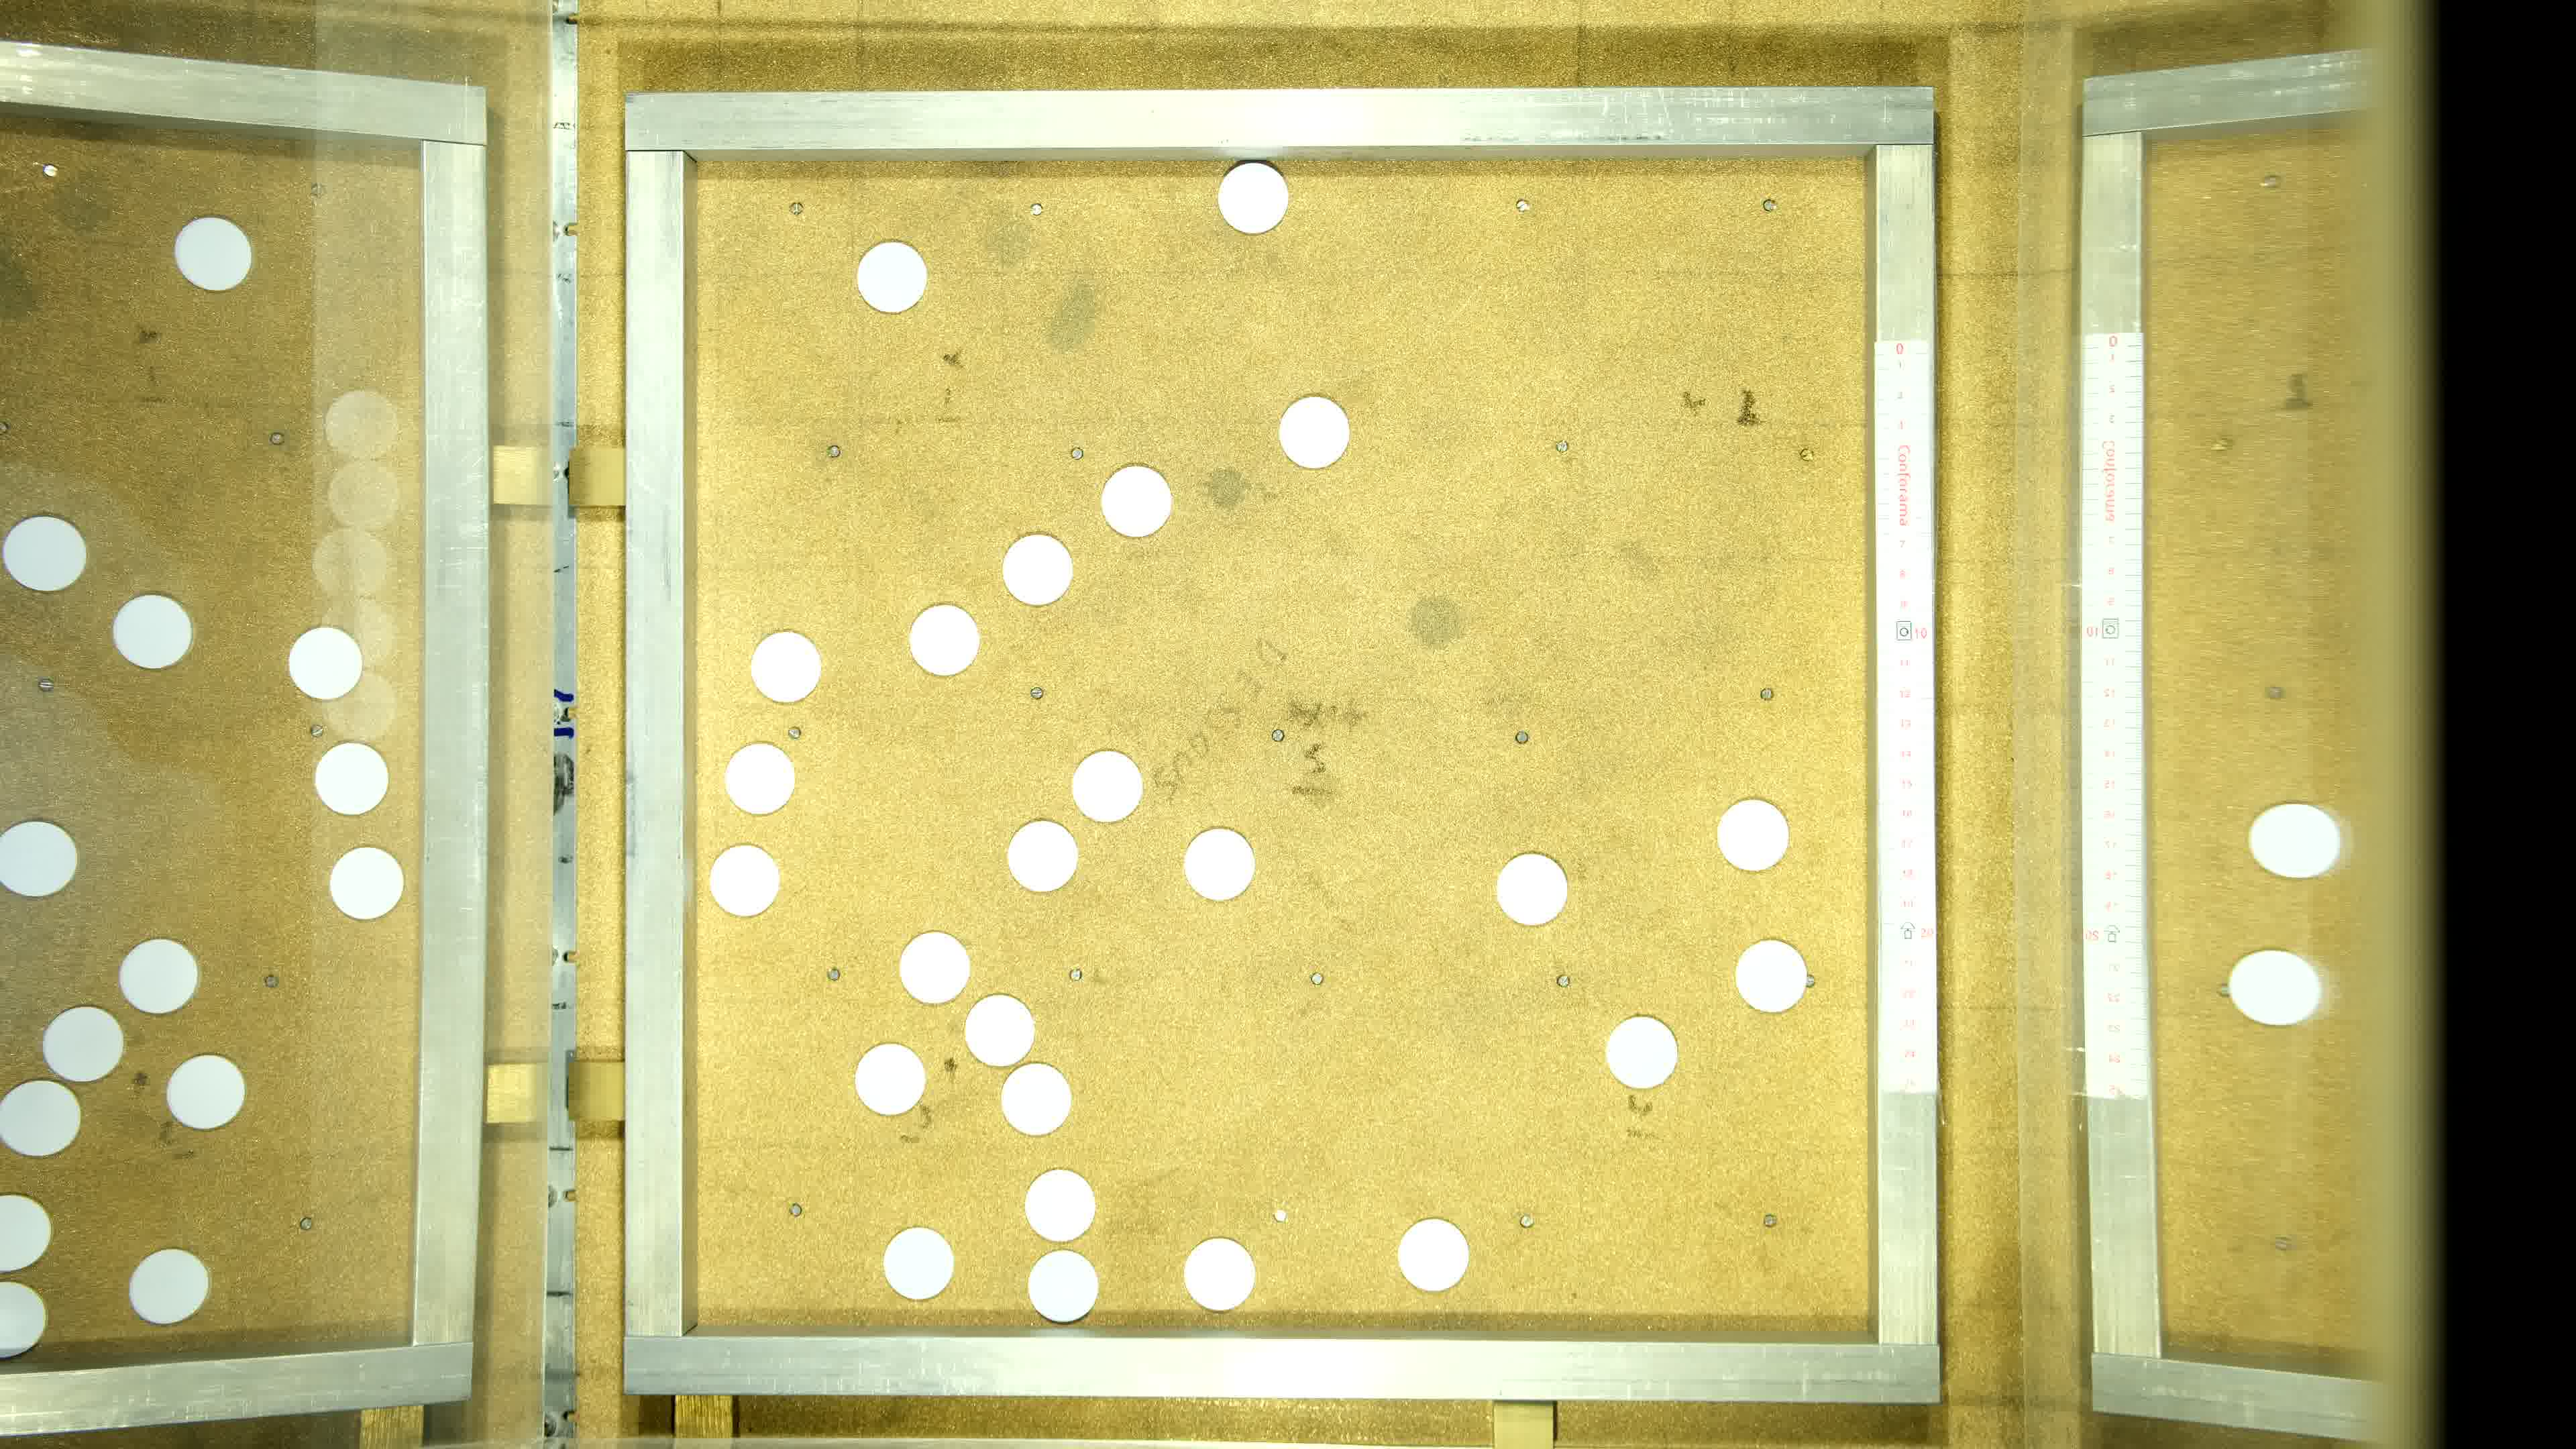pallet: (1182, 826, 1256, 902), (897, 929, 971, 1005), (1005, 817, 1079, 893), (722, 740, 796, 816), (1277, 395, 1352, 471), (1099, 462, 1173, 538), (1001, 531, 1076, 607), (1732, 938, 1806, 1014), (1716, 798, 1790, 874), (1493, 851, 1568, 927), (996, 1062, 1070, 1138), (962, 993, 1037, 1069), (1398, 1217, 1472, 1293), (855, 239, 929, 315), (1217, 159, 1292, 235), (1070, 750, 1145, 824), (1023, 1169, 1097, 1244), (708, 842, 780, 918), (908, 603, 980, 679), (748, 630, 821, 706), (853, 1042, 925, 1118), (1605, 1012, 1677, 1088), (1182, 1235, 1254, 1311), (1026, 1246, 1099, 1322), (883, 1224, 955, 1299)
